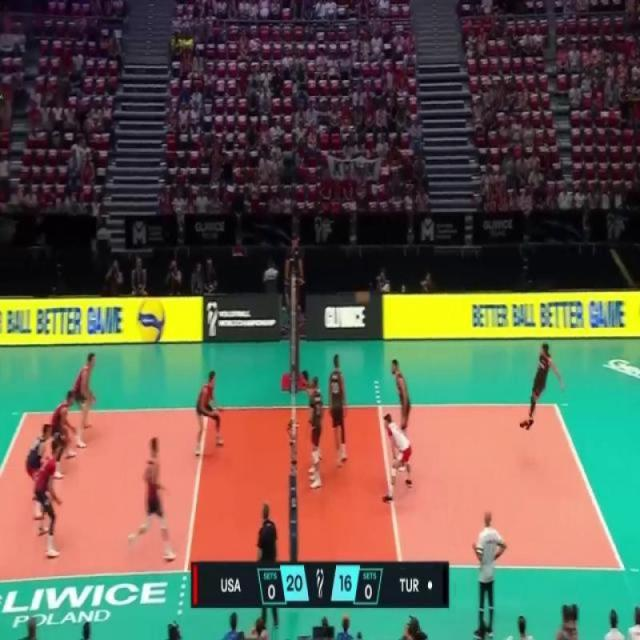volleyball: (135, 298, 167, 344), (353, 288, 371, 305)
